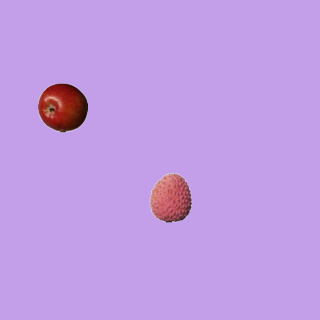Apple Braeburn: (37, 82, 87, 132)
Lychee: (145, 172, 195, 222)
